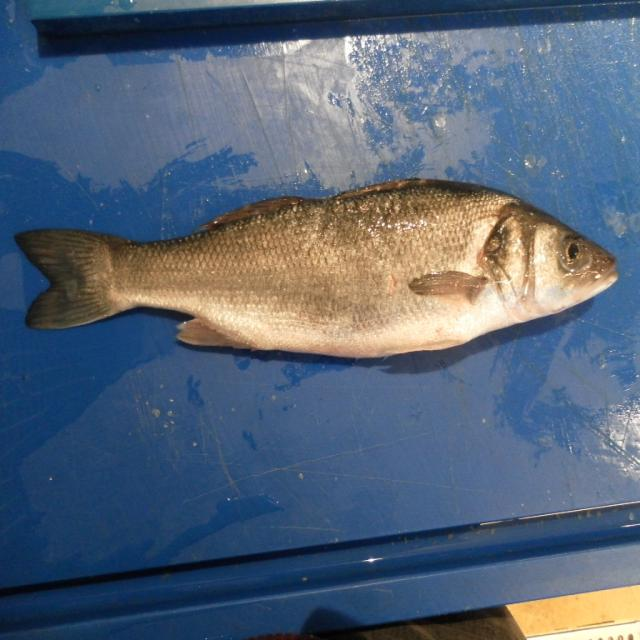Sea-Bass-levrek-: (15, 178, 620, 362)
